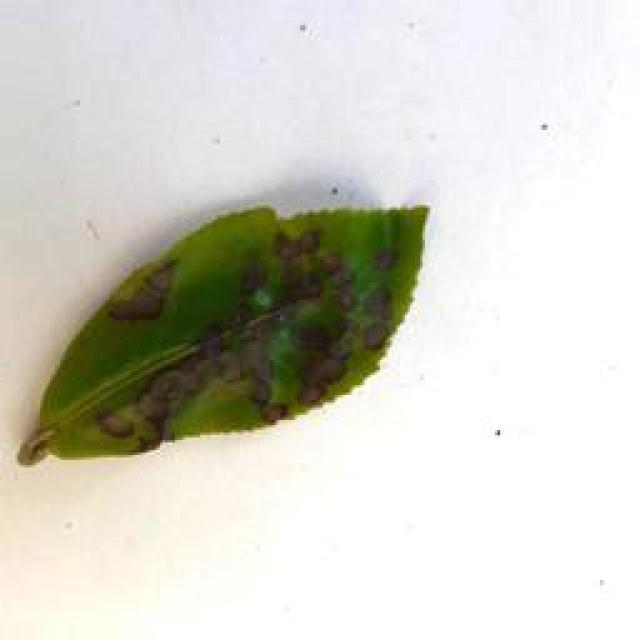Helopeltis: (0, 183, 440, 492)
